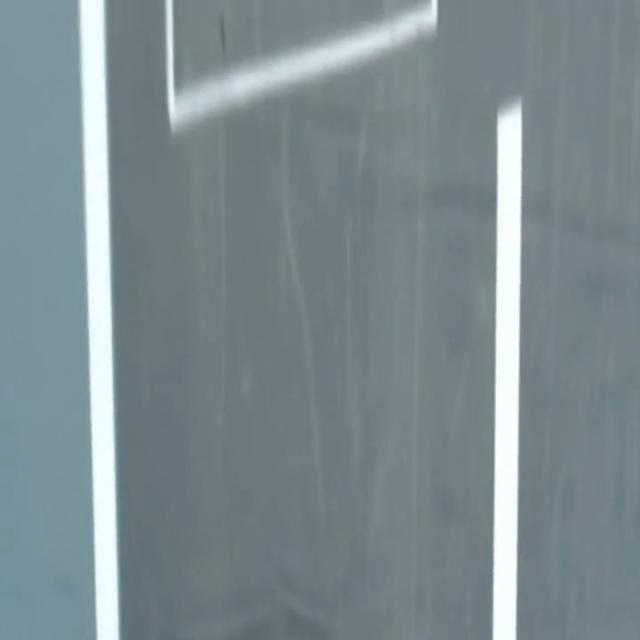center: (492, 99, 522, 639)
left: (78, 0, 119, 639)
